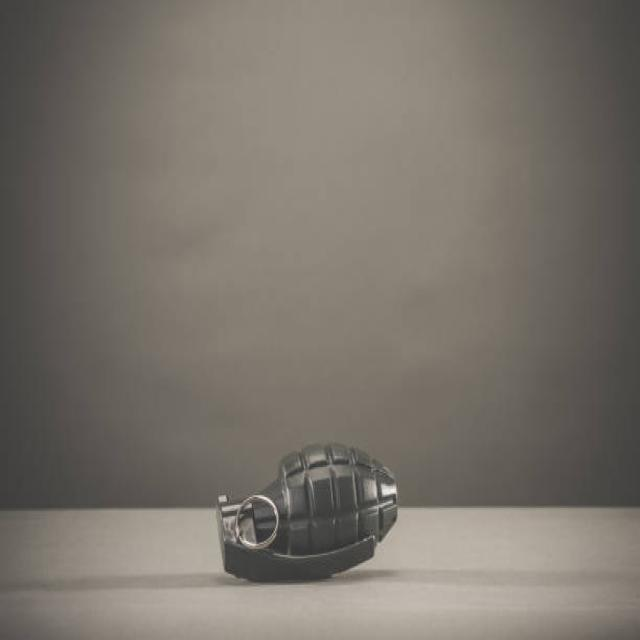grenade: (211, 437, 407, 594)
